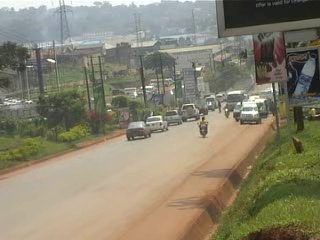Car: (122, 120, 153, 142), (237, 100, 263, 124), (145, 114, 167, 134), (179, 103, 201, 121), (161, 109, 184, 125)
Motorcycle: (197, 120, 209, 138), (224, 107, 231, 118)
